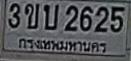2: (94, 6, 108, 31), (64, 4, 77, 30)
3: (8, 2, 20, 27)
5: (110, 6, 124, 31)
6: (79, 5, 92, 30)
A02: (24, 2, 39, 28)
A26: (43, 3, 58, 29)
BKK: (14, 36, 111, 56)
